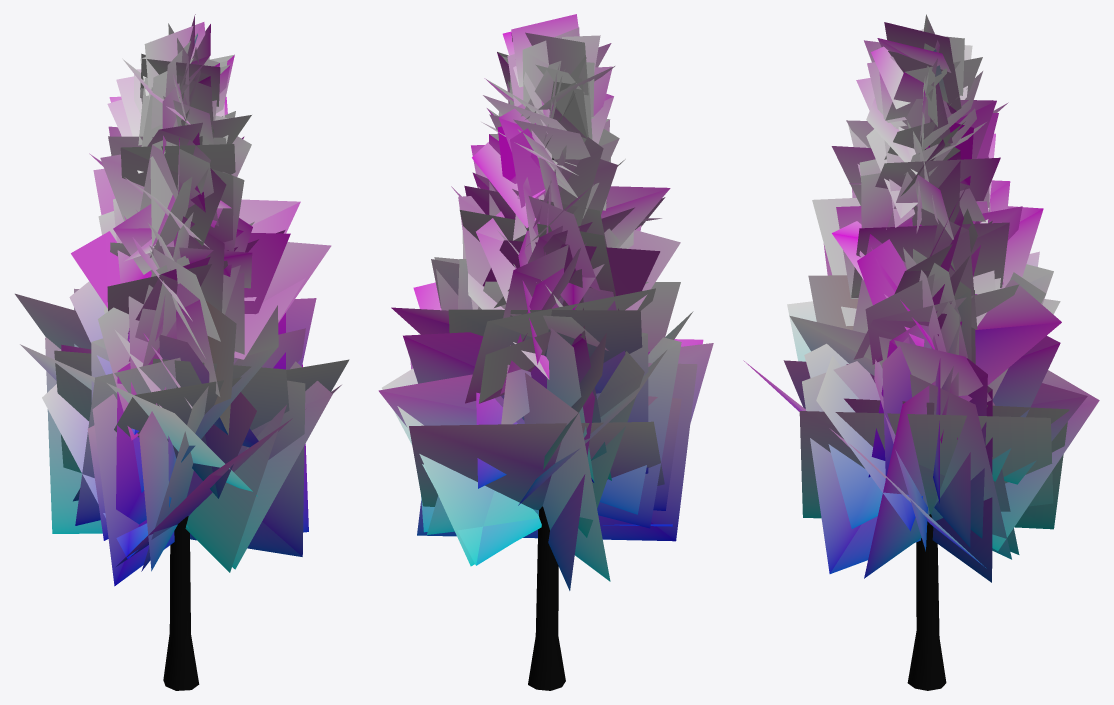
File: thuja_01_big_high.dae
3 views of the same model, side by side, from view 1: azimuth 30°, elevation 25°; view 2: azimuth 150°, elevation 25°; view 3: azimuth 270°, elevation 25° (orthographic).
Visible parts, largest first — view 1: thujahigh80; view 2: thujahigh80; view 3: thujahigh80.
Part boxes in pixels (<box>): thujahigh80: <box>15,14,349,690</box>; thujahigh80: <box>378,14,713,690</box>; thujahigh80: <box>743,14,1099,690</box>.
Size of what is drawn, in the model's own units: 7.98 by 9.73 by 19.73.
